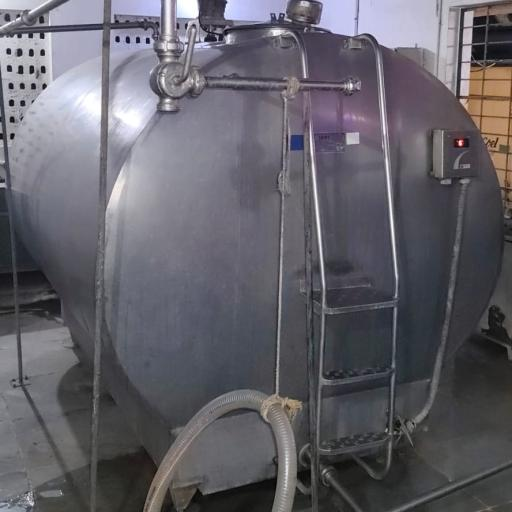silo: (4, 19, 504, 492)
